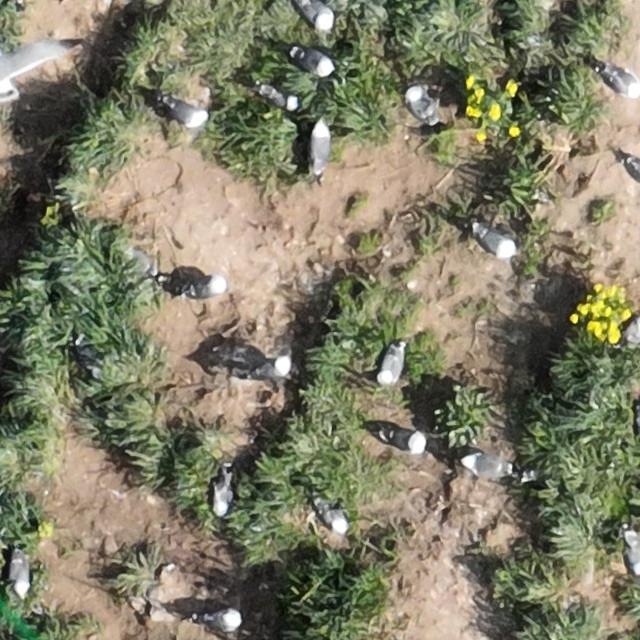umineko: (212, 468, 235, 518), (463, 457, 511, 479), (479, 230, 518, 257), (382, 429, 424, 452), (293, 50, 333, 74), (406, 88, 434, 121), (300, 3, 333, 30), (608, 71, 640, 98), (310, 125, 330, 168), (172, 104, 207, 128), (380, 349, 403, 384), (187, 277, 225, 297), (262, 87, 296, 109), (206, 610, 241, 630), (11, 557, 29, 595), (324, 507, 349, 534), (254, 360, 288, 379), (626, 537, 639, 576), (627, 159, 639, 187)
